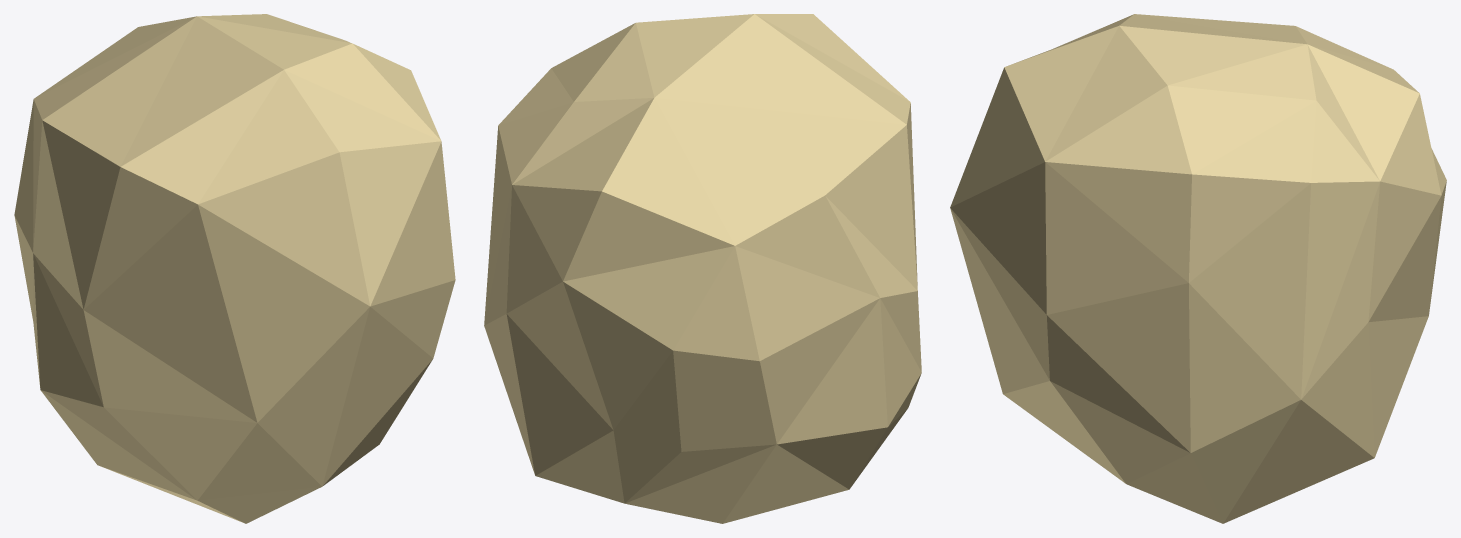
The model's file is Rock (63).fbx.
3 renders of one model, left to right at view 1: azimuth 30°, elevation 25°; view 2: azimuth 150°, elevation 25°; view 3: azimuth 270°, elevation 25°, orthographic. The views are drawn at different scales.
Visible parts, largest first — view 1: Asteroid62; view 2: Asteroid62; view 3: Asteroid62.
Boxes of the visible parts, x1,y1,x2,y2 form: Asteroid62: [14, 14, 455, 523]; Asteroid62: [484, 14, 921, 523]; Asteroid62: [950, 14, 1446, 523].
Bounding box in the file's own units: 138 × 164 × 159.
